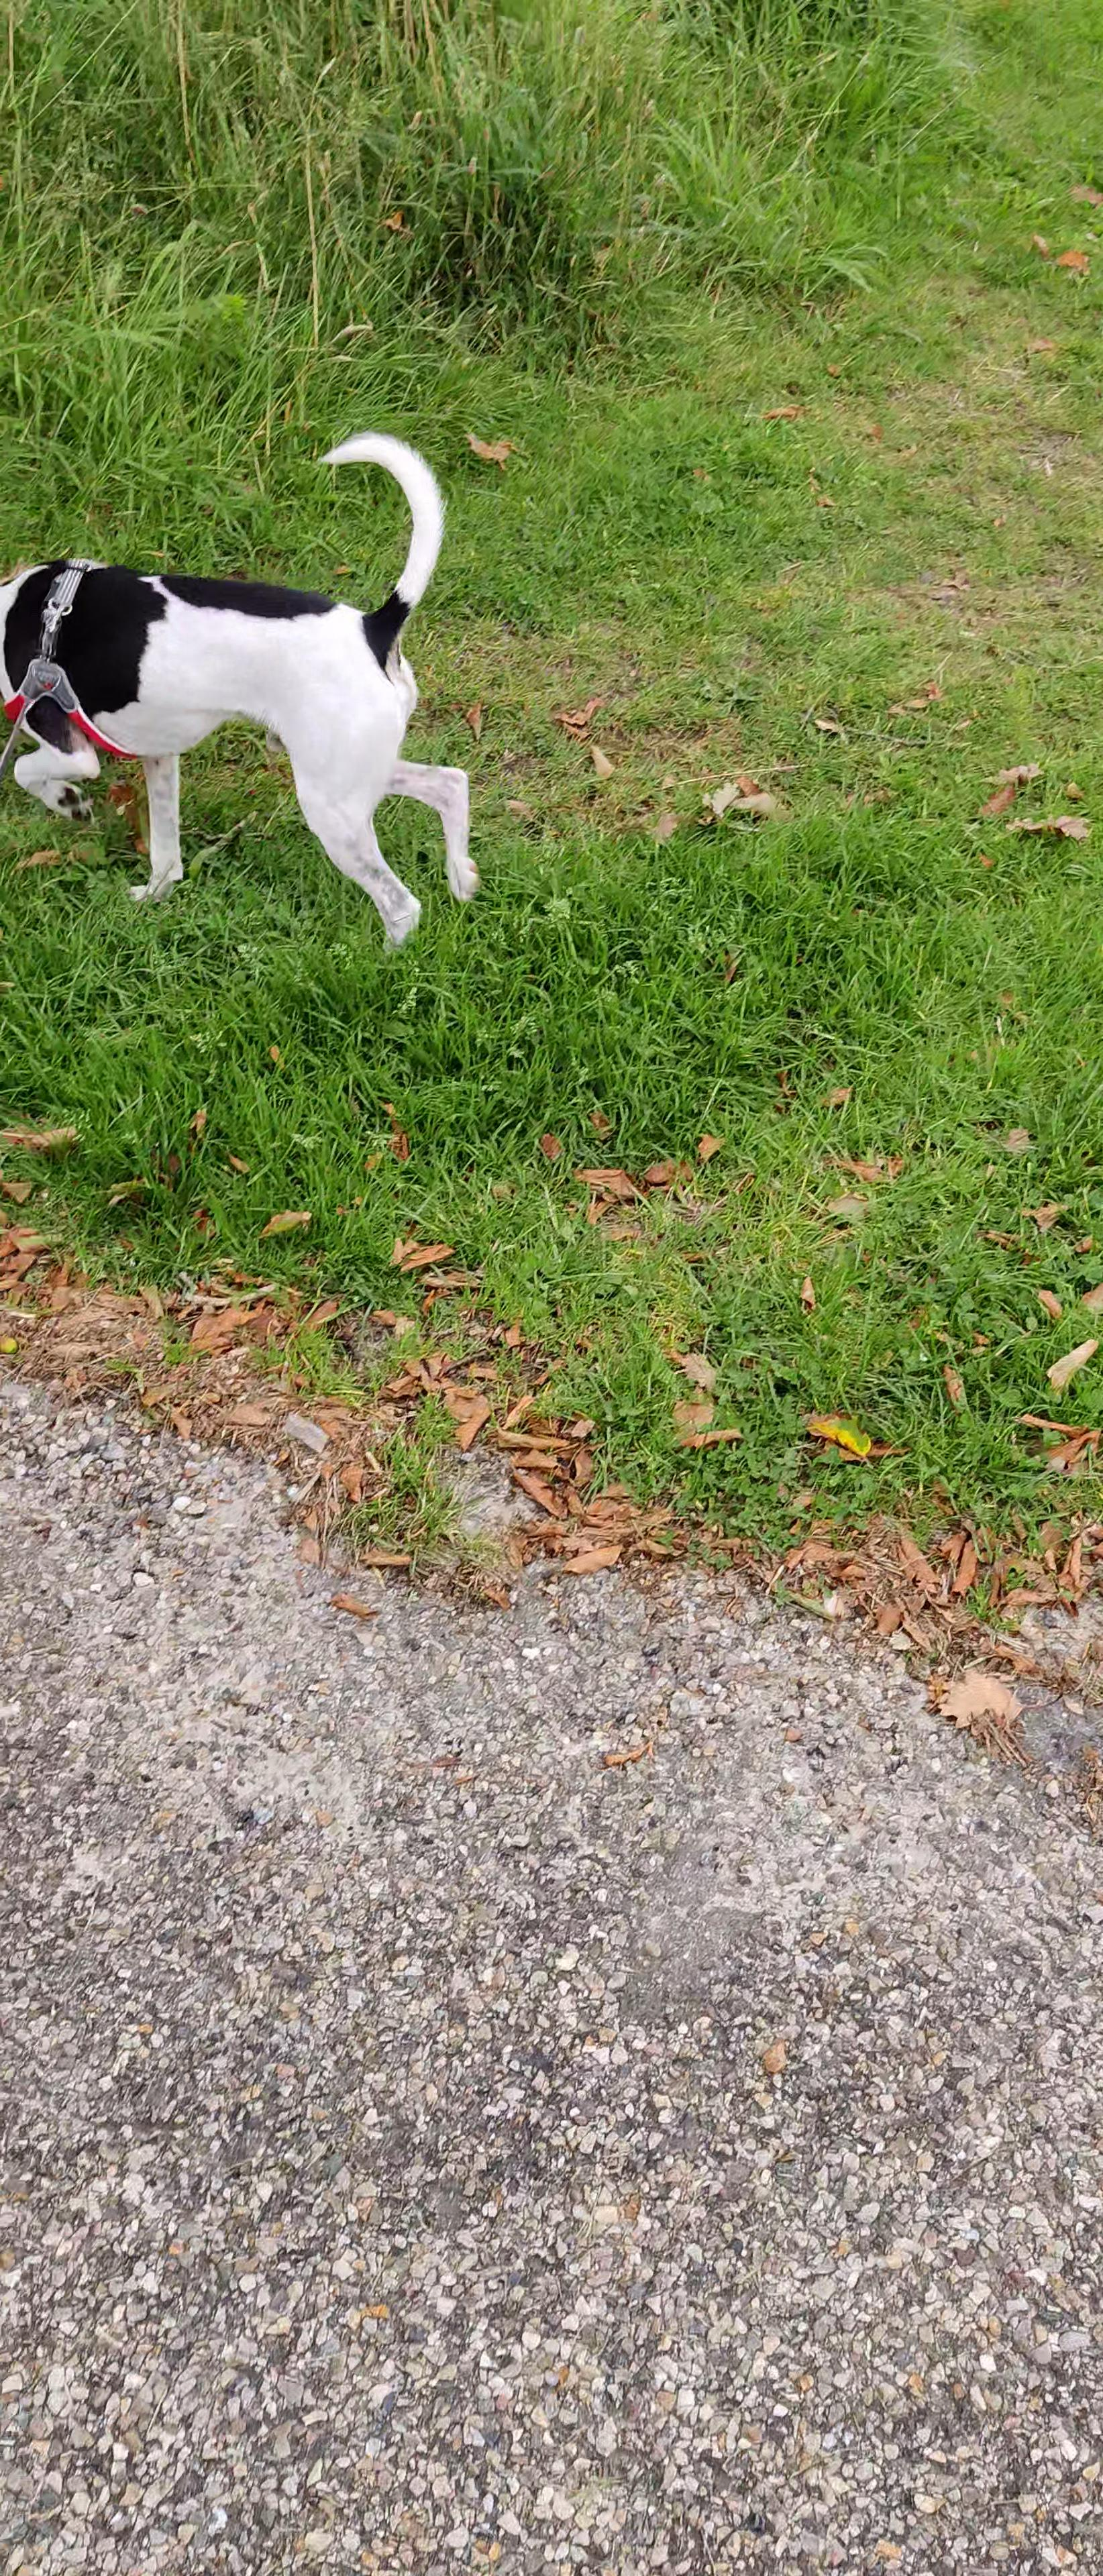Dog: (0, 417, 544, 974)
